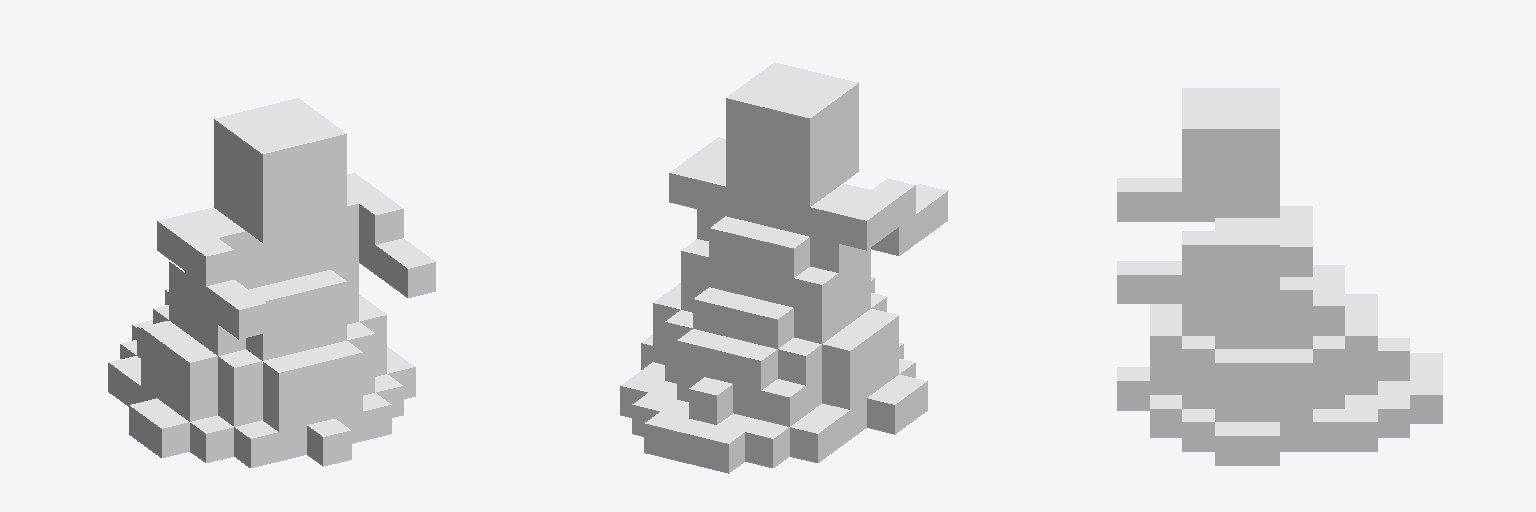
Rendered from attack_2.obj.
3 views of the same model, side by side, from view 1: azimuth 30°, elevation 25°; view 2: azimuth 150°, elevation 25°; view 3: azimuth 270°, elevation 25° (orthographic).
Size of the model in its own units: 9 by 10 by 10.